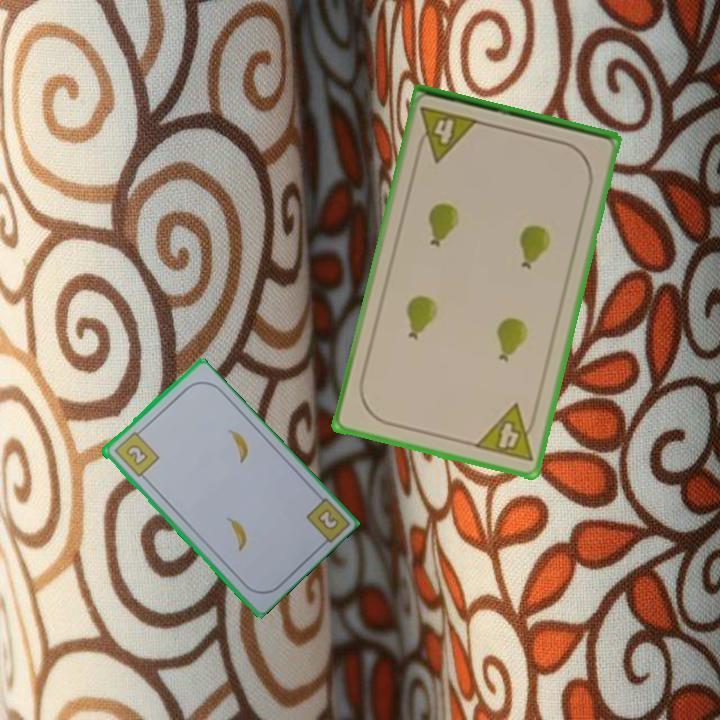2b: (110, 425, 162, 480), (313, 505, 342, 533)
4p: (471, 400, 542, 465), (412, 103, 482, 165)
